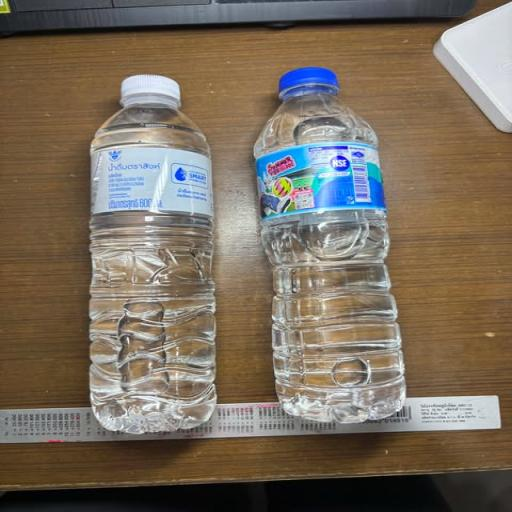bottle: (233, 50, 464, 430), (55, 61, 245, 440)
